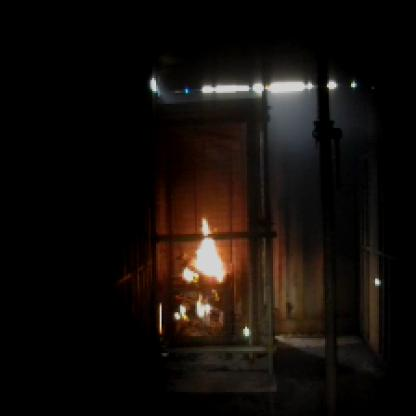Fire: (178, 219, 236, 318)
